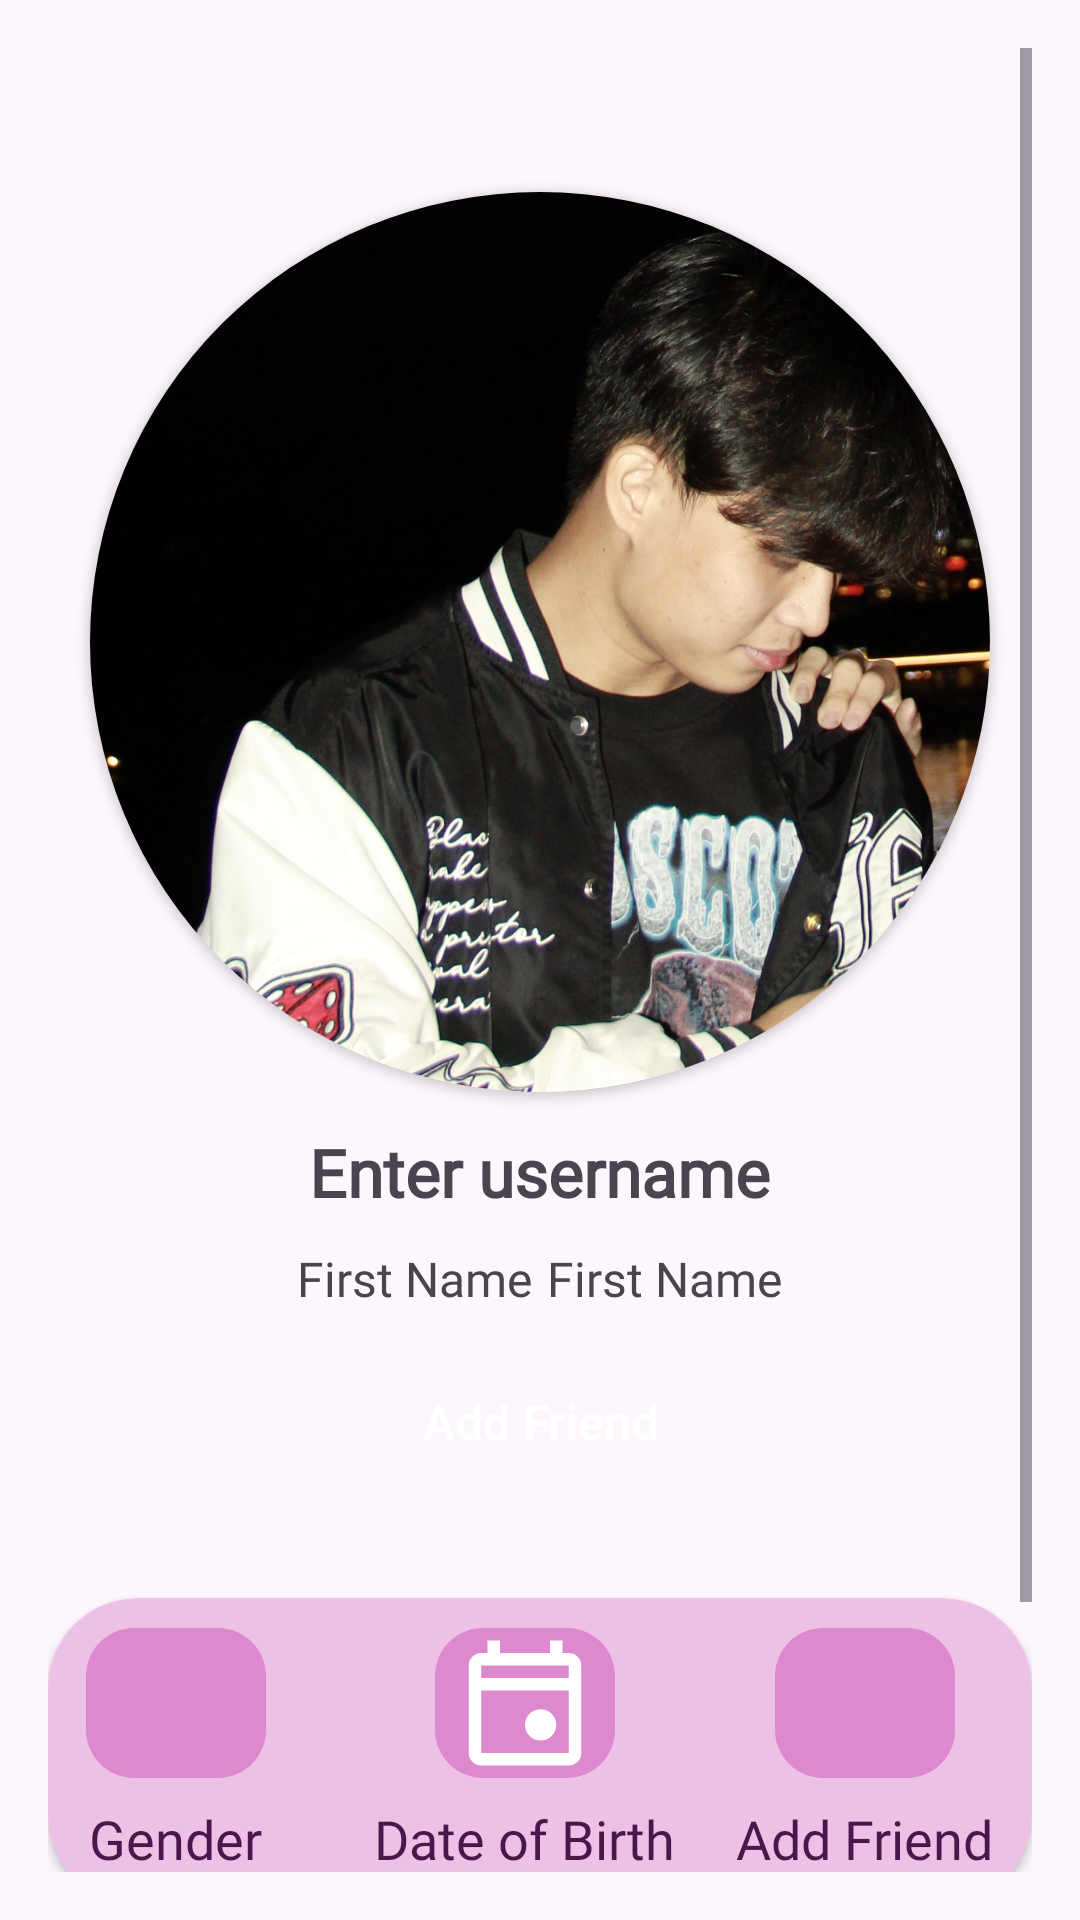

Locate icon controls on the screen. Image size 1080px x 1920px, boxes as (x1=x1, y1=y1, x2=x2, y2=y2).
calendar: (x1=435, y1=1628, x2=615, y2=1778)
